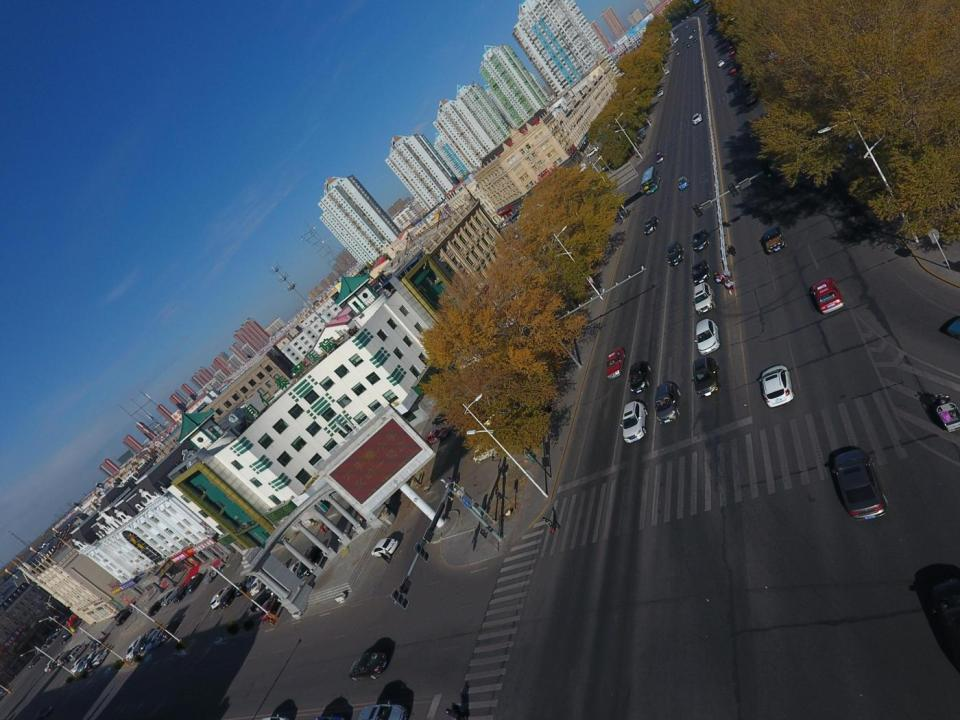bus: (640, 166, 661, 195), (509, 211, 520, 223)
car: (834, 449, 890, 521), (760, 365, 795, 408), (810, 277, 845, 314), (692, 357, 722, 397), (348, 652, 388, 681), (655, 381, 681, 424), (623, 401, 648, 443), (298, 544, 325, 580), (696, 318, 721, 355), (357, 705, 409, 720), (250, 586, 278, 613), (693, 283, 715, 316), (629, 362, 651, 395), (762, 225, 786, 254), (606, 347, 626, 380), (219, 581, 242, 609), (260, 592, 282, 621), (235, 570, 257, 596), (246, 564, 268, 589), (250, 569, 270, 596), (126, 635, 146, 661), (371, 538, 398, 557), (422, 427, 450, 445), (210, 586, 230, 610), (692, 259, 710, 285), (160, 585, 182, 606), (137, 629, 156, 653), (84, 647, 103, 670), (286, 559, 304, 583), (86, 649, 107, 669), (668, 241, 684, 267), (693, 228, 710, 252), (145, 629, 162, 653), (146, 596, 166, 616), (186, 572, 204, 594), (174, 582, 192, 604), (70, 654, 90, 673), (432, 410, 455, 426), (92, 648, 110, 666), (44, 654, 62, 672), (32, 706, 54, 720), (202, 567, 220, 584), (116, 608, 134, 625), (48, 653, 64, 672), (52, 652, 69, 668), (644, 217, 659, 235), (77, 653, 90, 673), (28, 652, 44, 668), (56, 616, 72, 631), (57, 650, 71, 667), (42, 635, 57, 649), (60, 631, 74, 644), (90, 638, 105, 650), (69, 618, 84, 630), (678, 176, 689, 192), (586, 145, 599, 158), (47, 631, 61, 642), (692, 112, 702, 126), (357, 514, 368, 526), (746, 94, 756, 106), (656, 152, 666, 163), (575, 166, 587, 175), (744, 76, 752, 87), (601, 163, 612, 171), (657, 89, 664, 97), (517, 211, 524, 219), (718, 60, 725, 67), (728, 50, 735, 57), (502, 220, 509, 227), (730, 66, 736, 74), (505, 220, 512, 226), (728, 44, 733, 50), (665, 68, 670, 74), (682, 41, 686, 47), (693, 38, 697, 44), (674, 38, 679, 42), (689, 34, 693, 39), (673, 28, 677, 32), (686, 44, 690, 48), (675, 51, 679, 55), (708, 26, 712, 30), (684, 25, 688, 28), (705, 11, 708, 14), (706, 16, 709, 19), (680, 19, 684, 21), (686, 16, 689, 18), (693, 29, 695, 32)
van: (473, 440, 501, 463), (159, 618, 181, 642), (151, 624, 172, 647), (62, 644, 80, 662), (68, 644, 87, 661), (110, 606, 129, 622)
